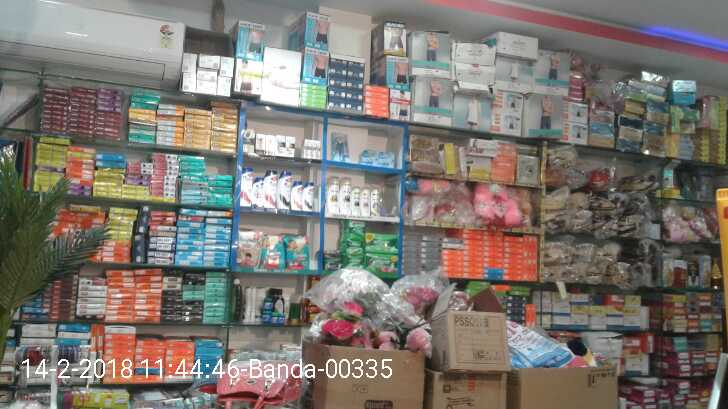venus: (330, 132, 349, 161), (361, 149, 378, 166), (378, 151, 394, 166)
